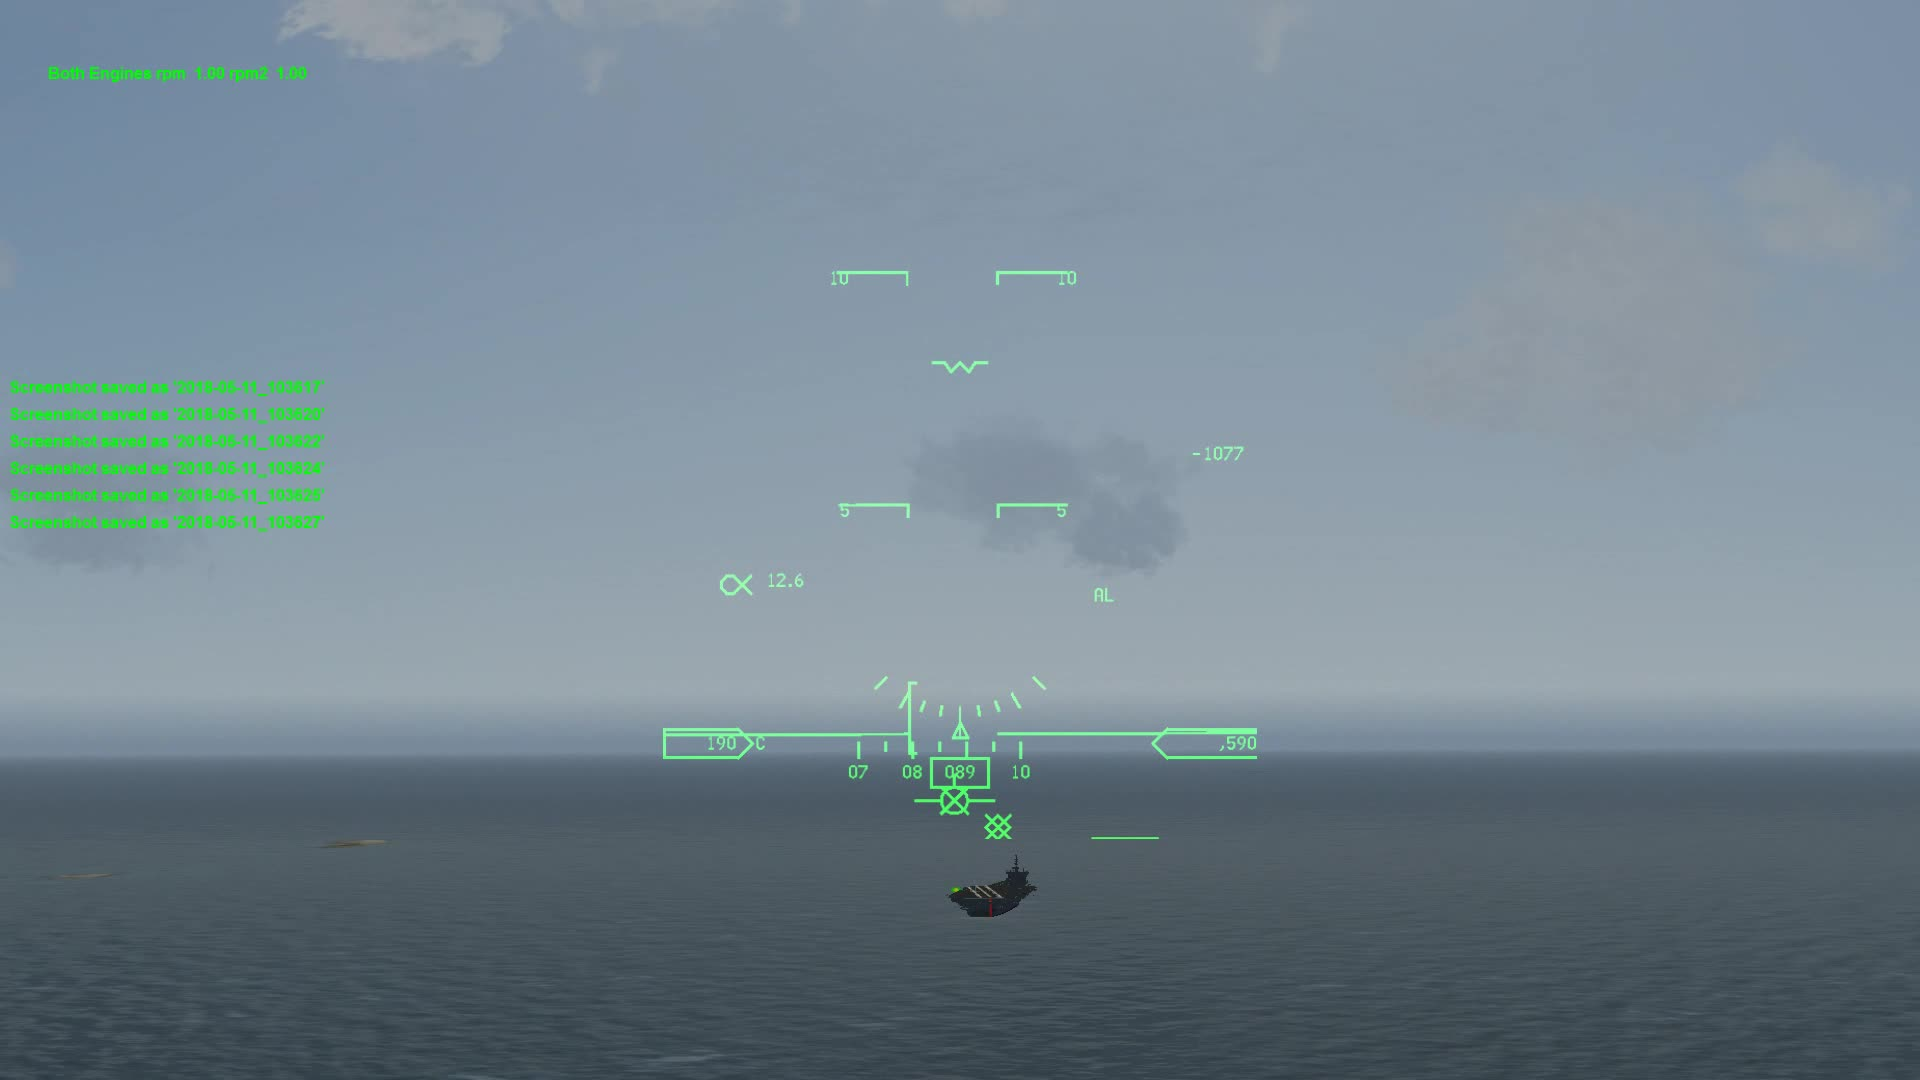speed vector: (903, 789, 1010, 819)
